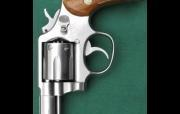gun: (35, 0, 146, 114)
